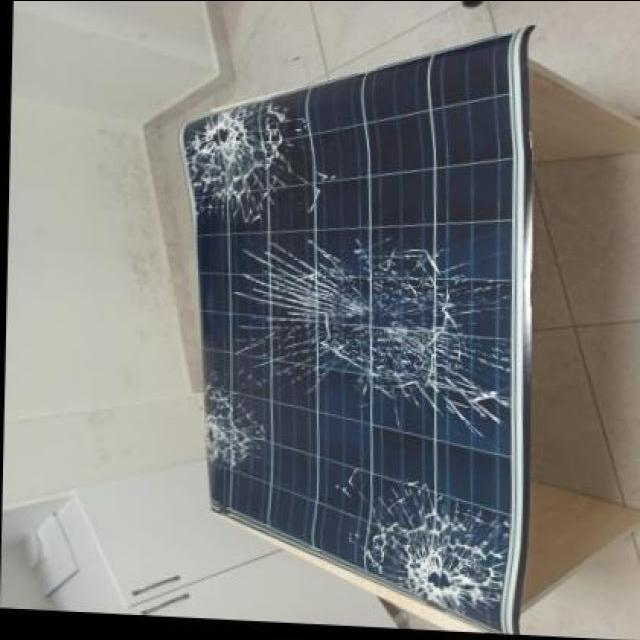cracked: (189, 25, 532, 632)
